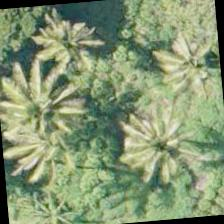Kelapa_Sawit: (106, 100, 204, 198), (0, 61, 95, 160), (21, 0, 119, 95), (135, 13, 223, 111)
